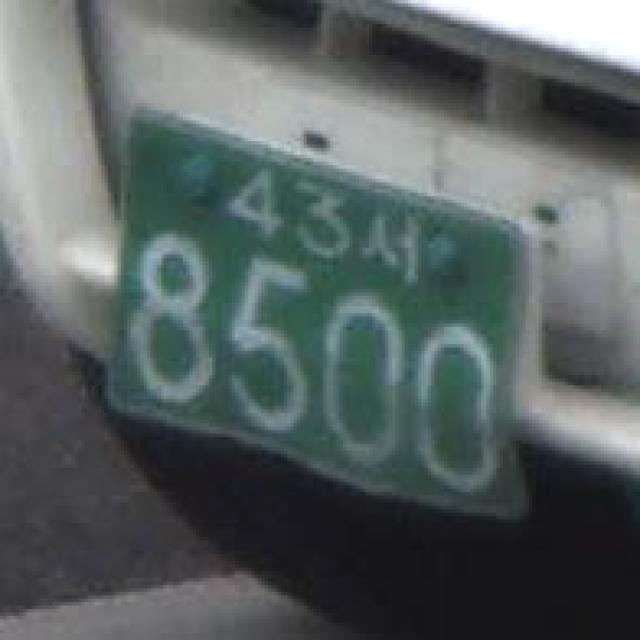illegal_plate: (88, 99, 562, 549)
